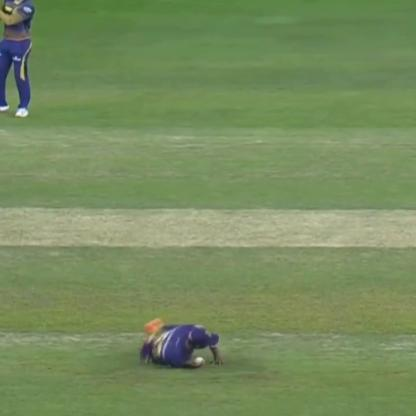ball: (192, 355, 206, 366)
